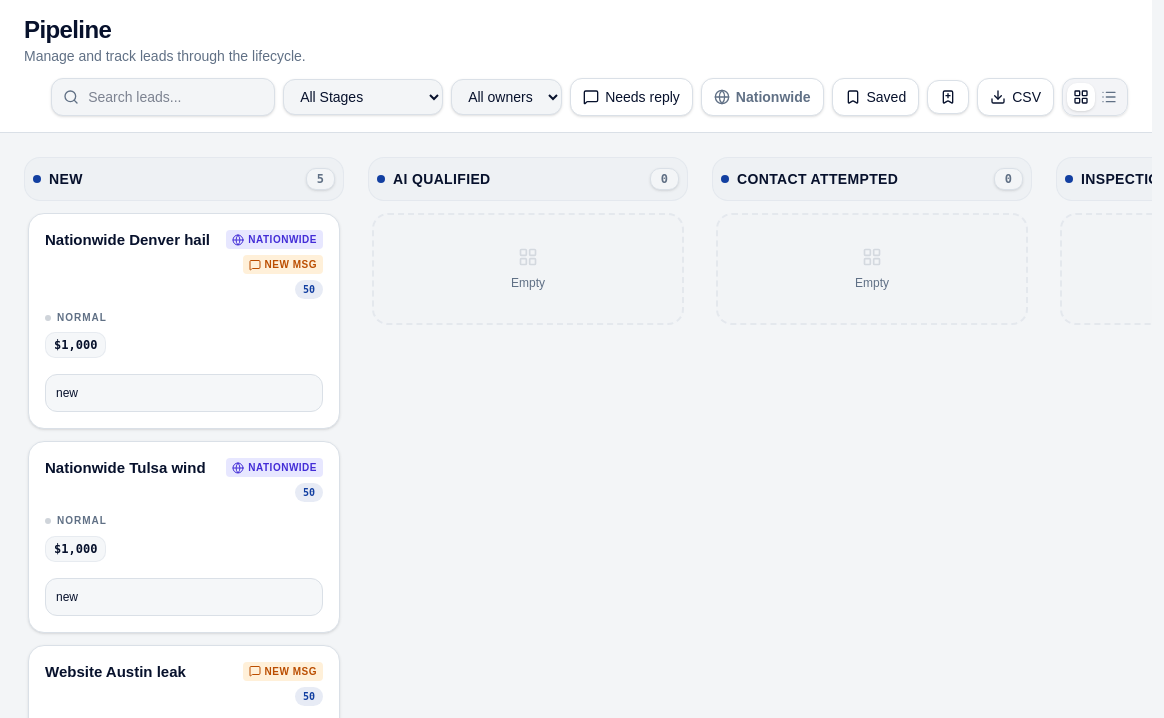
Test: Pipeline compound filters › owner + search keeps a lead matching both; clearing either filter restores the wider set
The image size is (1164, 718).
Expected: the link "Nationwide Denver hail" is shown, x1=45 y1=230 x2=210 y2=251
Expected: the link "Nationwide Tulsa wind" is shown, x1=45 y1=458 x2=206 y2=479
Select "Riley Ops" in the dropdown with test id "owner-filter" at (507, 97), box x1=451 y1=79 x2=562 y2=115
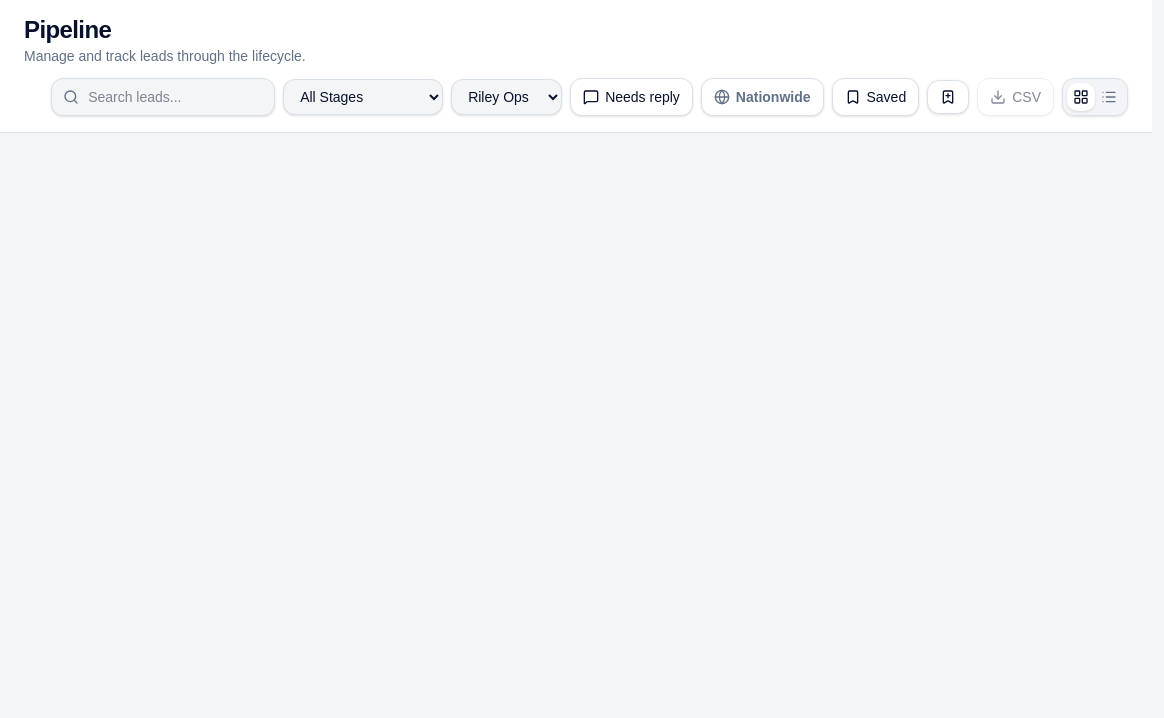
Type "Tulsa" into the search field with placeholder "Search leads..." at (163, 97), box x1=51 y1=78 x2=275 y2=116
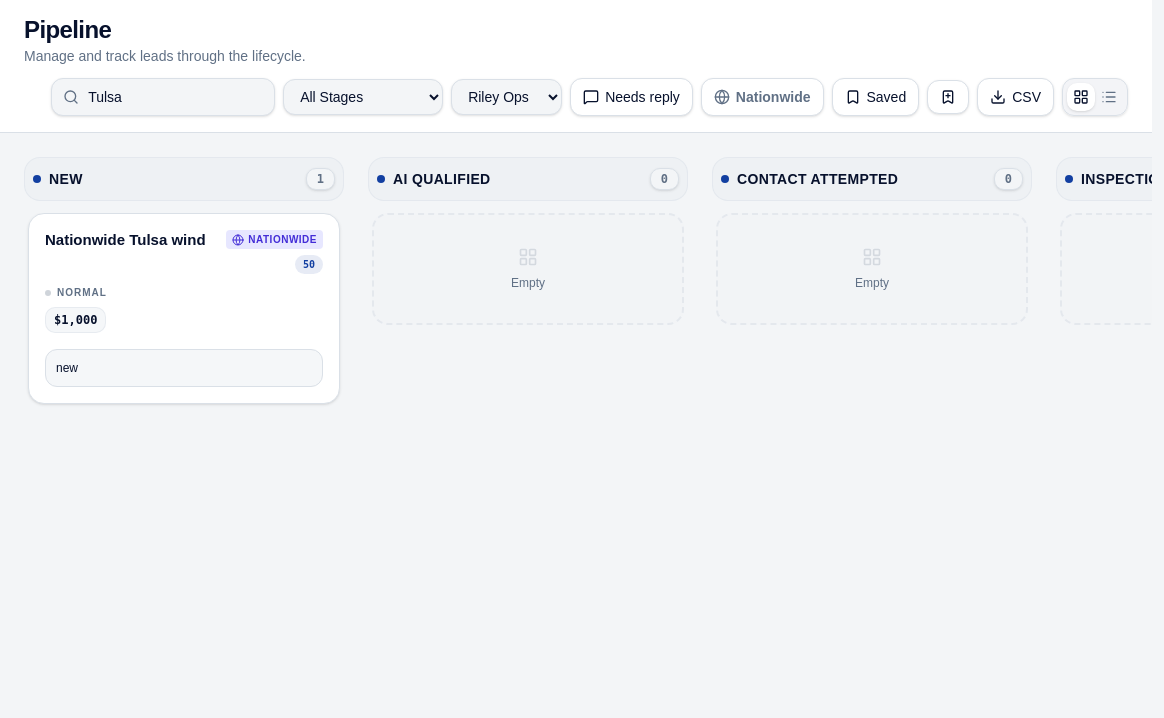
Expected: the text "Website Boise gutter" is not shown
Now the link "Nationwide Tulsa wind" is shown, box x1=45 y1=230 x2=206 y2=251
Clearing the search restores all of Riley's leads.
Clear the search field with placeholder "Search leads..." at (163, 97), box x1=51 y1=78 x2=275 y2=116
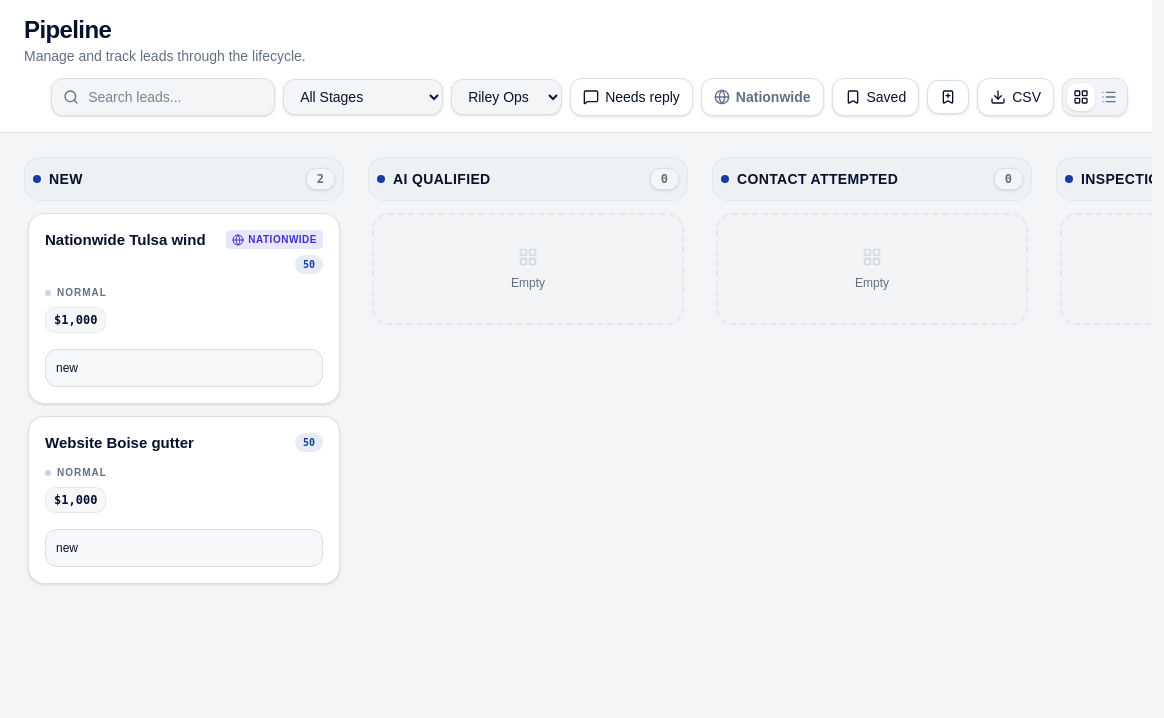
Expected: the link "Nationwide Denver hail" is not shown
Now the link "Nationwide Tulsa wind" is shown, box x1=45 y1=230 x2=206 y2=251
Now the link "Website Boise gutter" is shown, box x1=45 y1=433 x2=194 y2=454
Clearing the owner filter too restores the full set.
Select "All owners" in the dropdown with test id "owner-filter" at (507, 97), box x1=451 y1=79 x2=562 y2=115
(page scrolled)
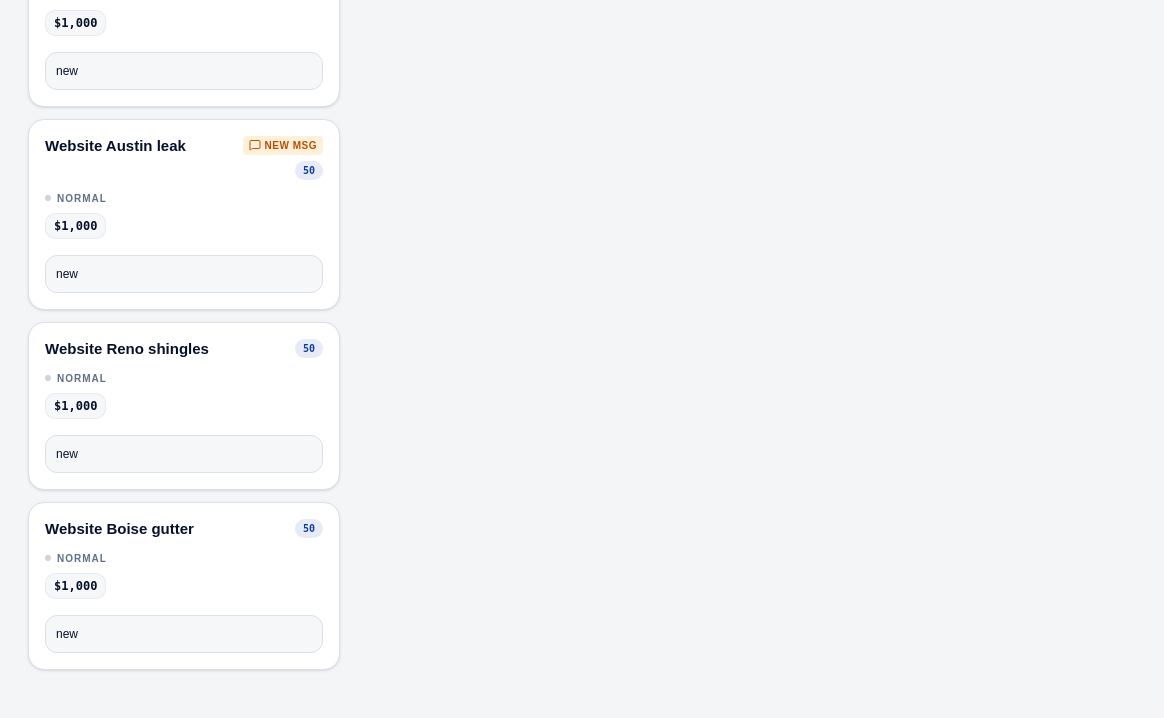
Now the link "Website Boise gutter" is shown, box x1=45 y1=519 x2=194 y2=540
Now the link "Website Austin leak" is shown, box x1=45 y1=136 x2=186 y2=156
Now the link "Website Reno shingles" is shown, box x1=45 y1=339 x2=209 y2=360
